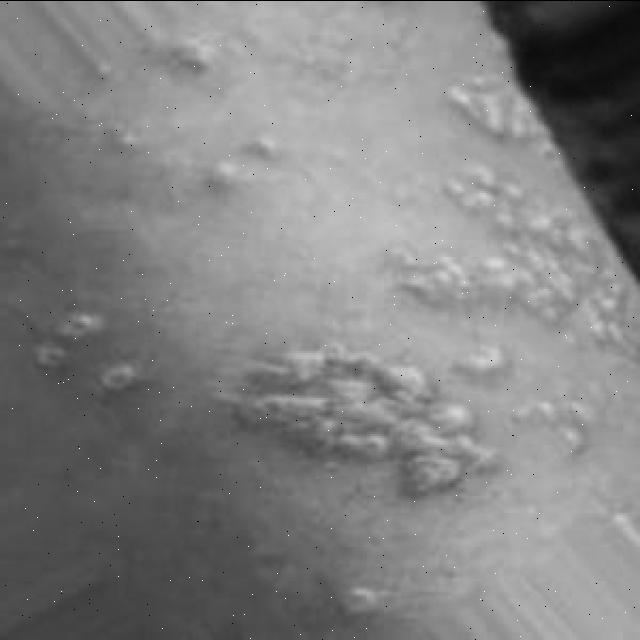Shingles: (379, 156, 639, 366), (228, 342, 503, 498), (434, 66, 554, 160), (33, 307, 138, 395)
